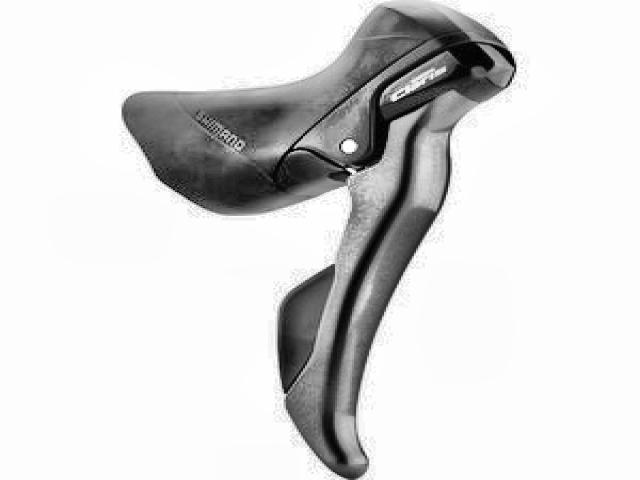sti_shifter: (143, 4, 523, 478)
